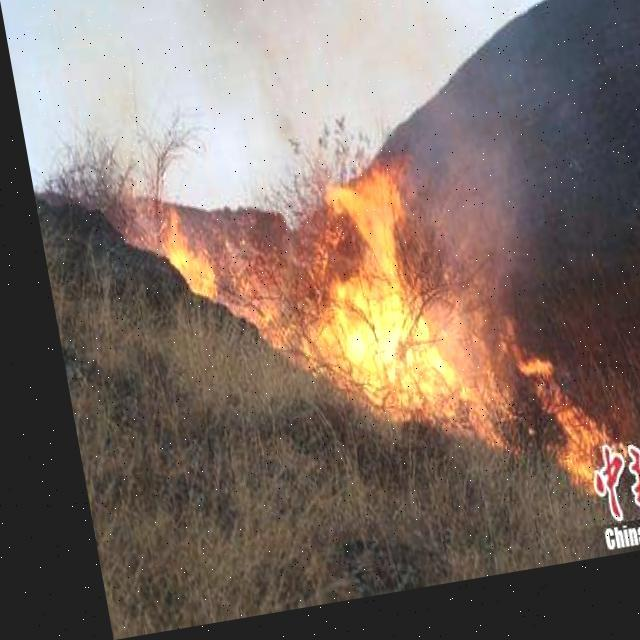Fire: (131, 144, 608, 564)
